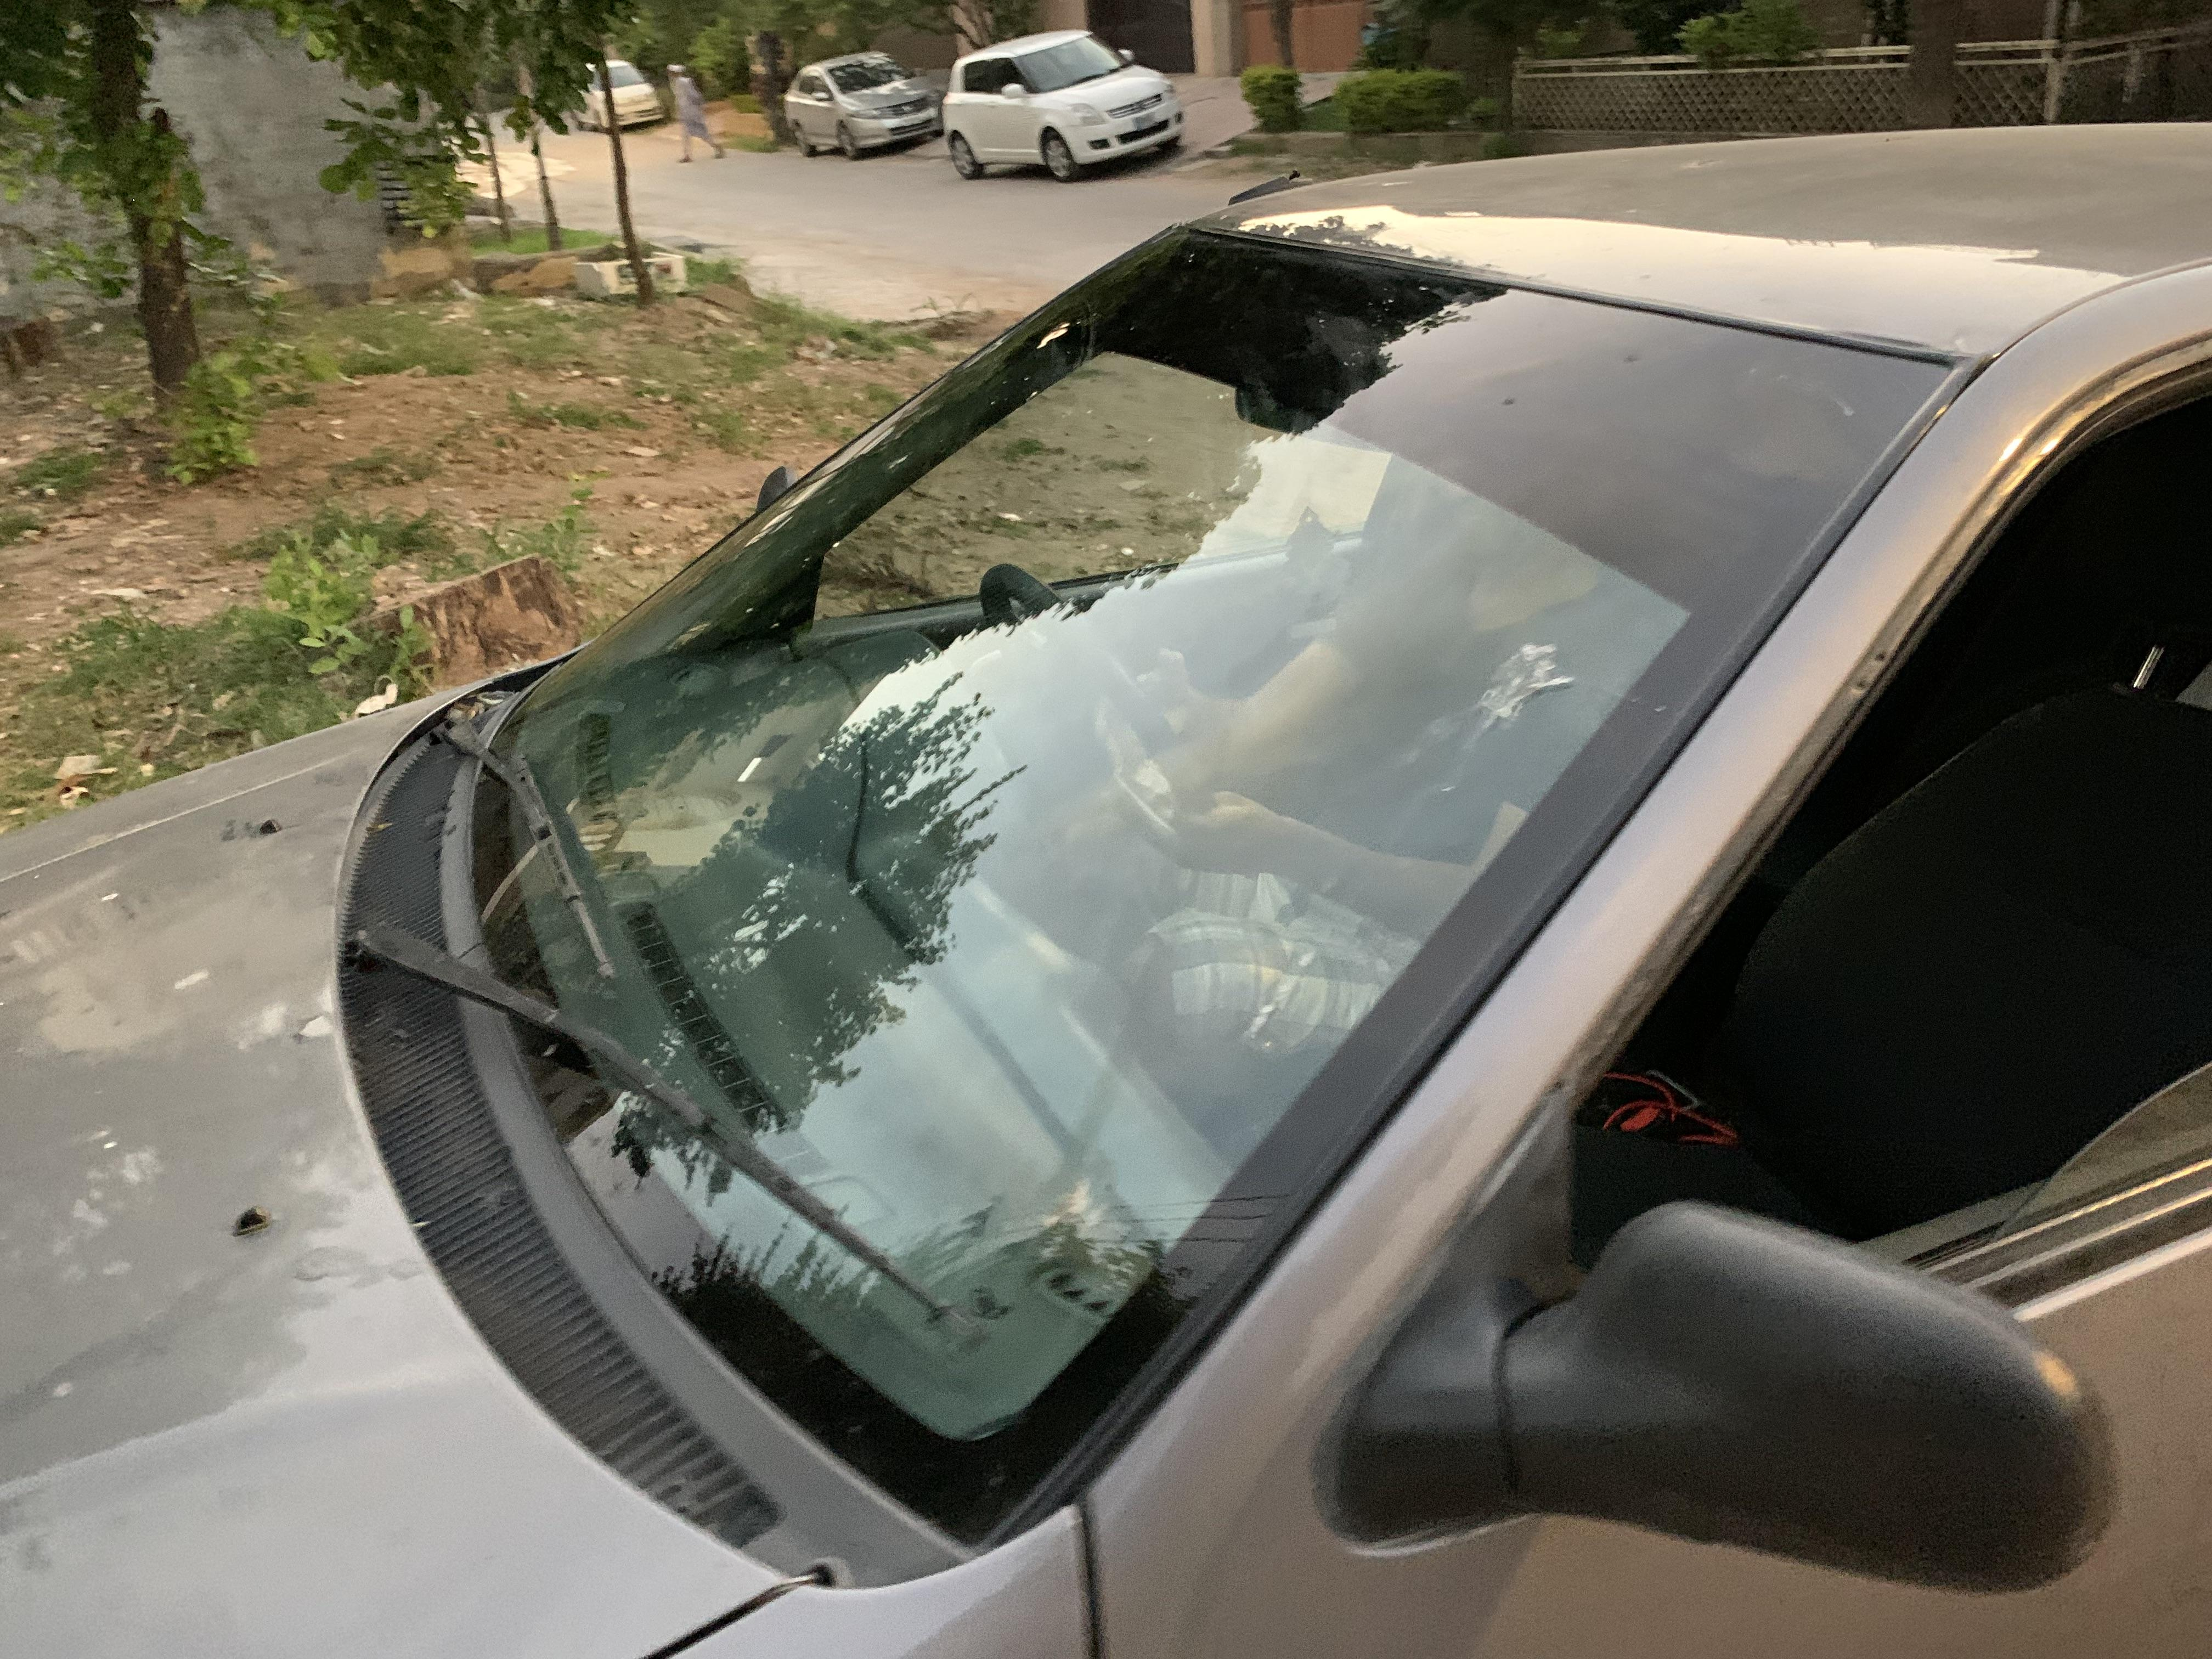windshield: (413, 192, 1980, 1601)
